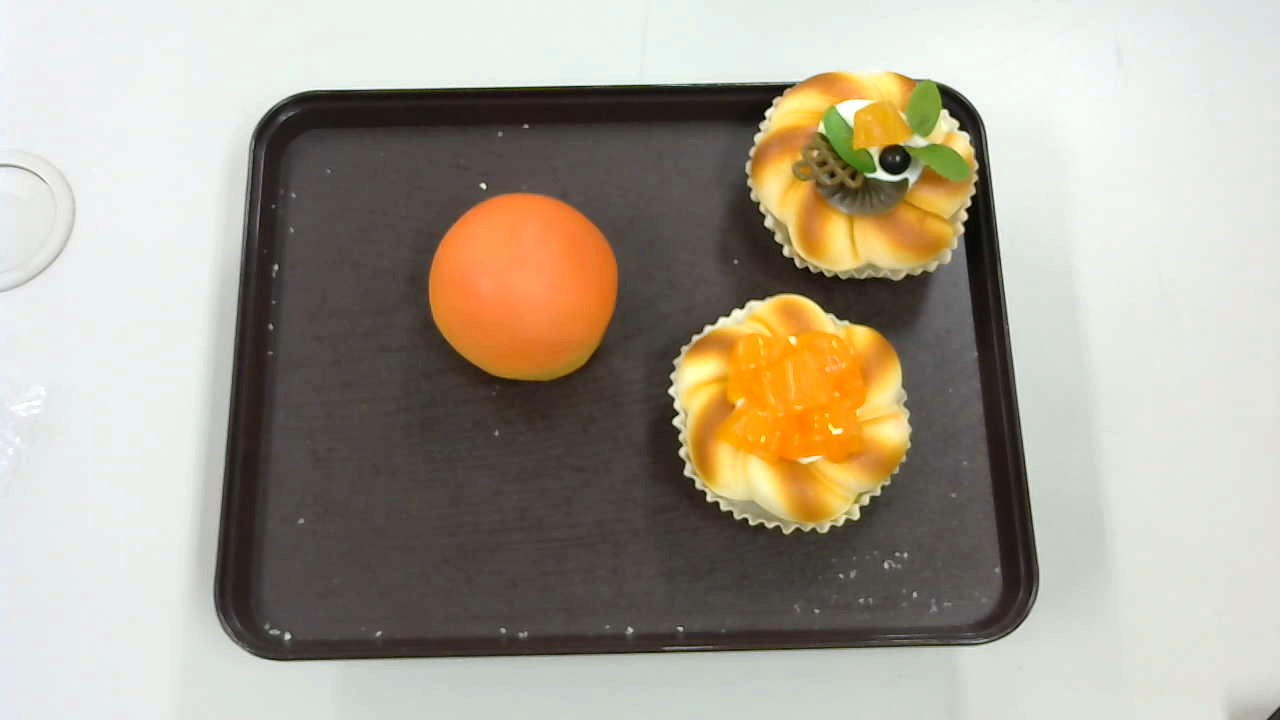bun: (427, 193, 618, 380)
fruit tart: (745, 69, 980, 280)
mango tart: (669, 293, 912, 537)
